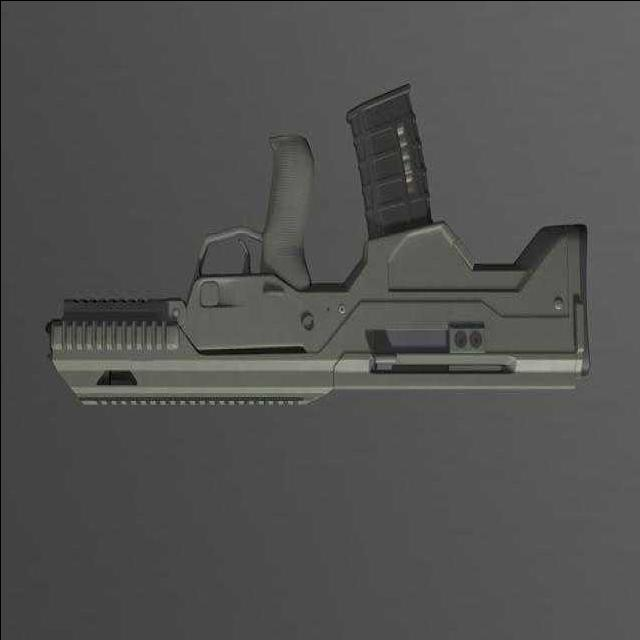heavyweapon: (44, 49, 624, 483)
